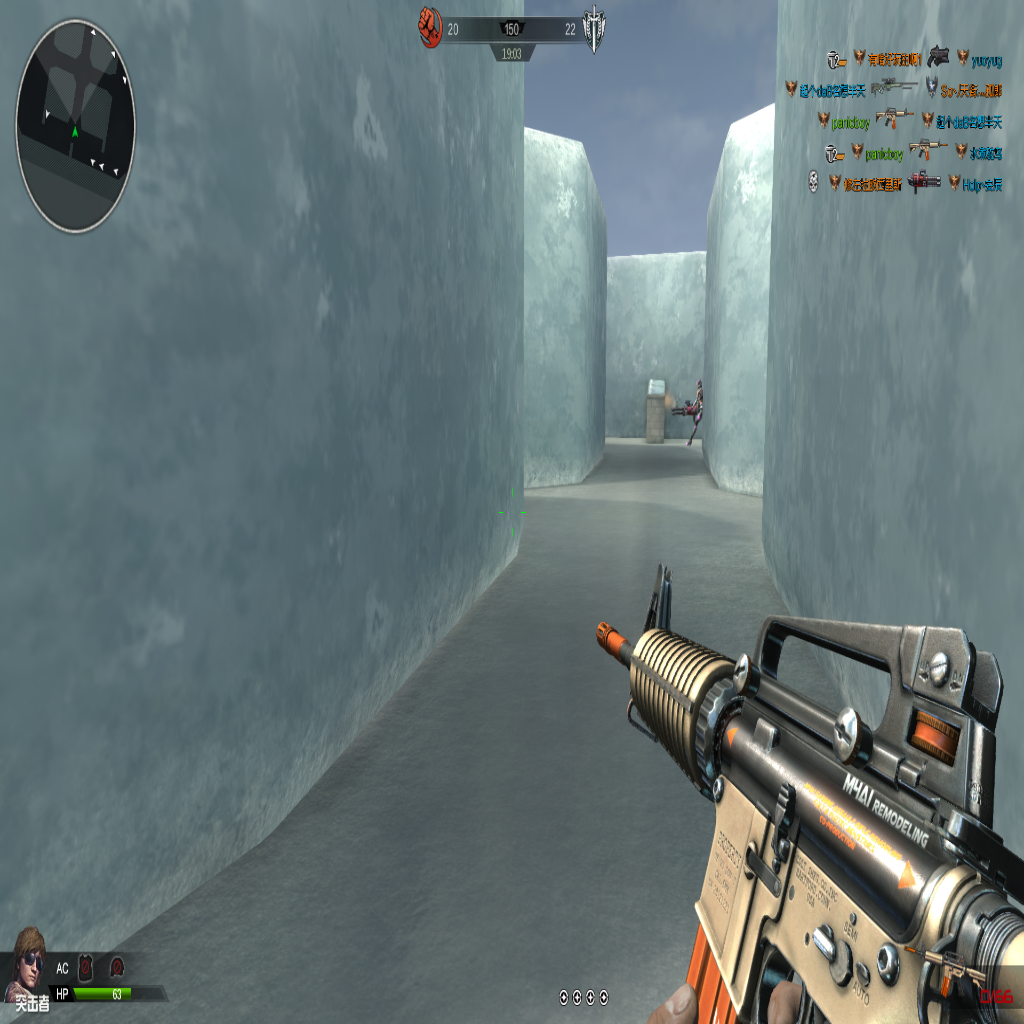tt: (684, 383, 704, 448)
